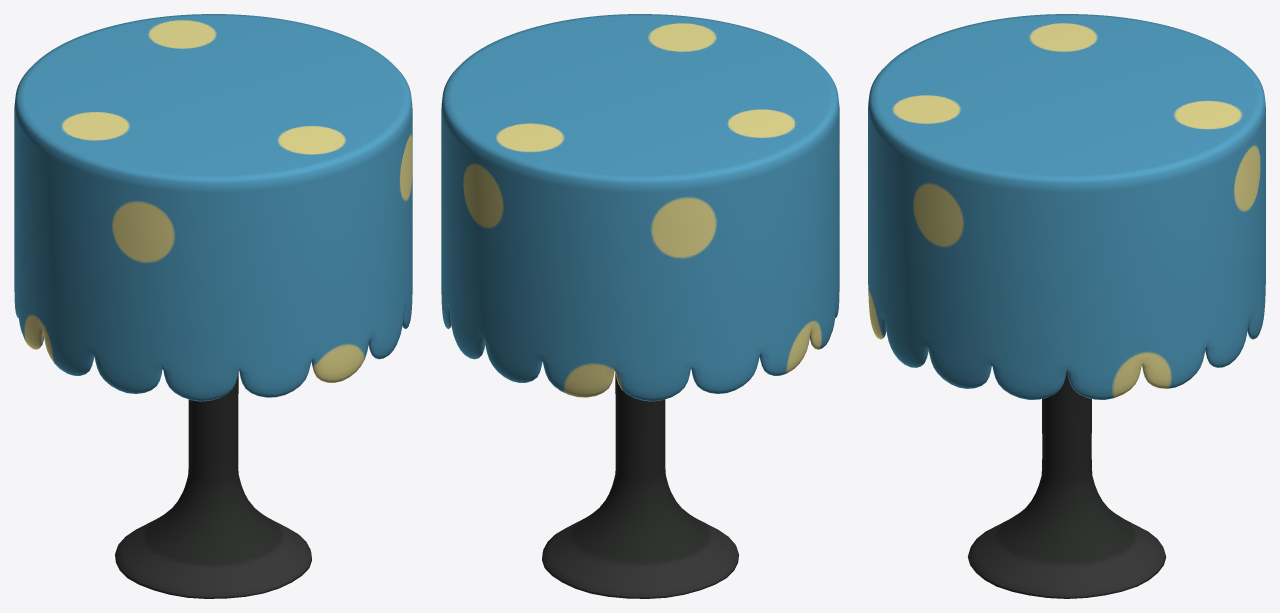
File: side_table.glb
3 renders of one model, left to right at view 1: azimuth 30°, elevation 25°; view 2: azimuth 150°, elevation 25°; view 3: azimuth 270°, elevation 25°, orthographic.
Visible parts, largest first — view 1: side_table; view 2: side_table; view 3: side_table.
Boxes of the visible parts, <box> form: side_table: <box>14,14,412,598</box>; side_table: <box>441,14,839,598</box>; side_table: <box>868,14,1265,598</box>.
Bounding box in the file's own units: 0.5539 × 0.7102 × 0.5539.
1 material, 1 textured.
